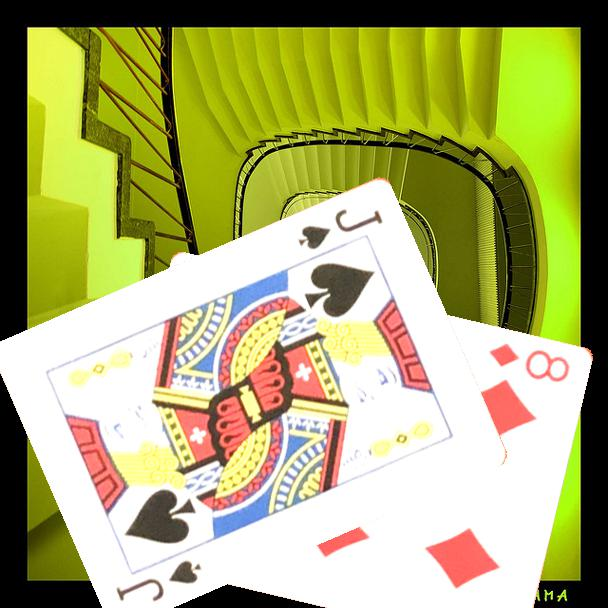d08: (486, 339, 573, 385)
s11: (112, 555, 205, 604), (295, 204, 386, 252)
